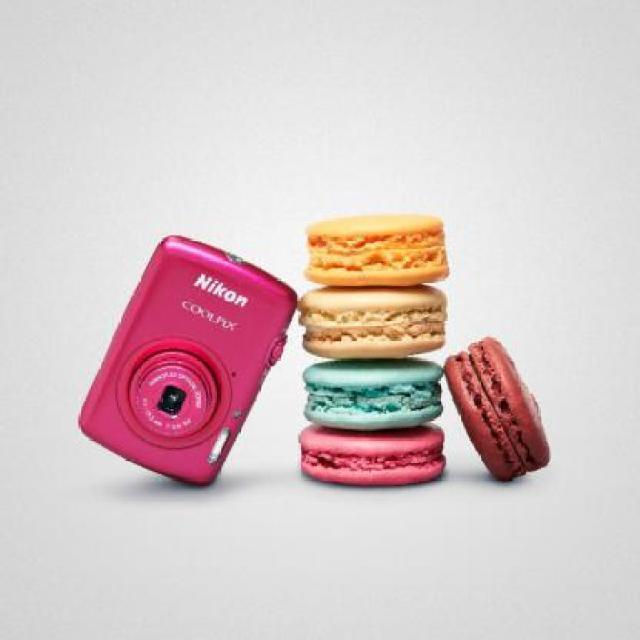Cookie: (443, 332, 552, 486), (294, 284, 451, 359), (304, 210, 450, 288), (294, 421, 444, 490), (300, 356, 442, 427)
